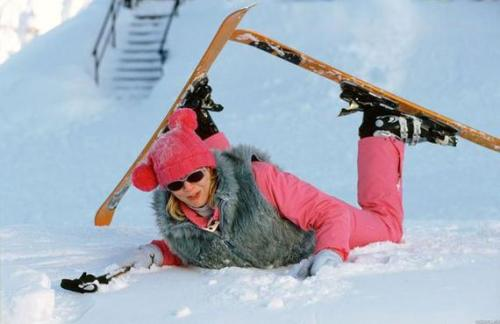fall: (78, 65, 476, 291)
